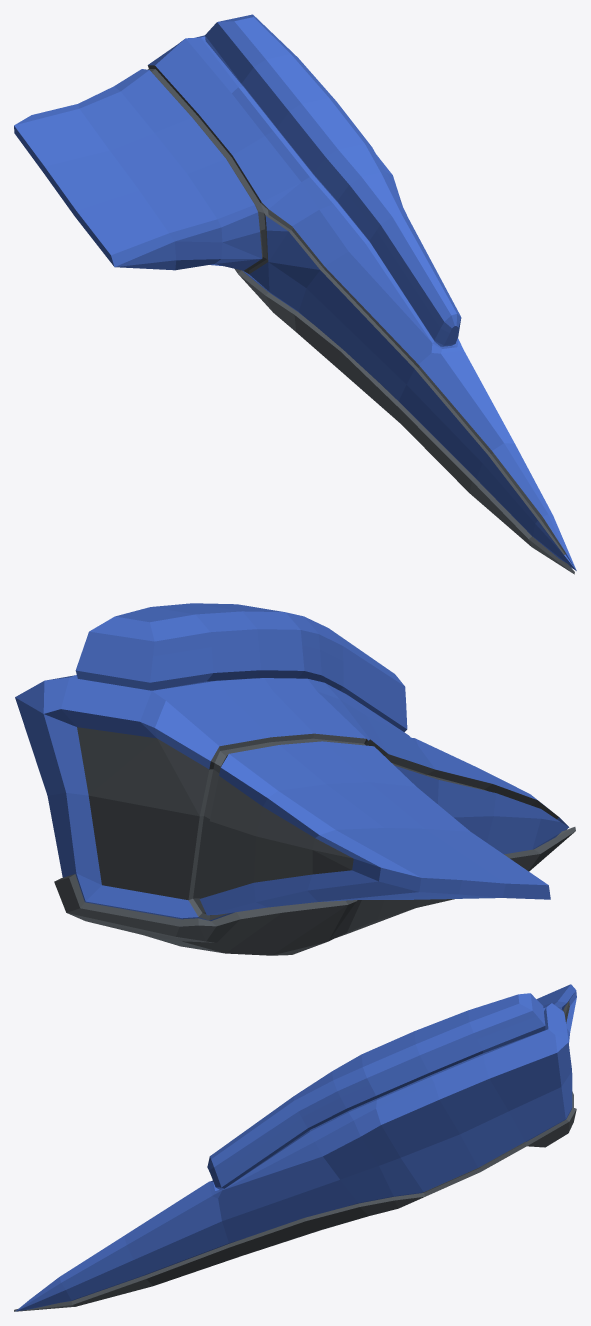
The model's file is Fighter_03_Wing_Bottom_Right_Blue.fbx.
The picture shows the model from 3 angles, top to bottom: view 1: azimuth 30°, elevation 25°; view 2: azimuth 150°, elevation 25°; view 3: azimuth 270°, elevation 25°; orthographic projection. The views are drawn at different scales.
Parts seen in each view (by area): view 1: Fighter_03_Wing_Bottom_Right_Blue; view 2: Fighter_03_Wing_Bottom_Right_Blue; view 3: Fighter_03_Wing_Bottom_Right_Blue.
Part boxes in pixels (x1,y1,x2,y2): Fighter_03_Wing_Bottom_Right_Blue: [14, 14, 576, 574]; Fighter_03_Wing_Bottom_Right_Blue: [15, 603, 575, 955]; Fighter_03_Wing_Bottom_Right_Blue: [14, 984, 576, 1311].
Bounding box in the file's own units: 354 × 440 × 752.
Materials: 2 (2 with a texture image).
